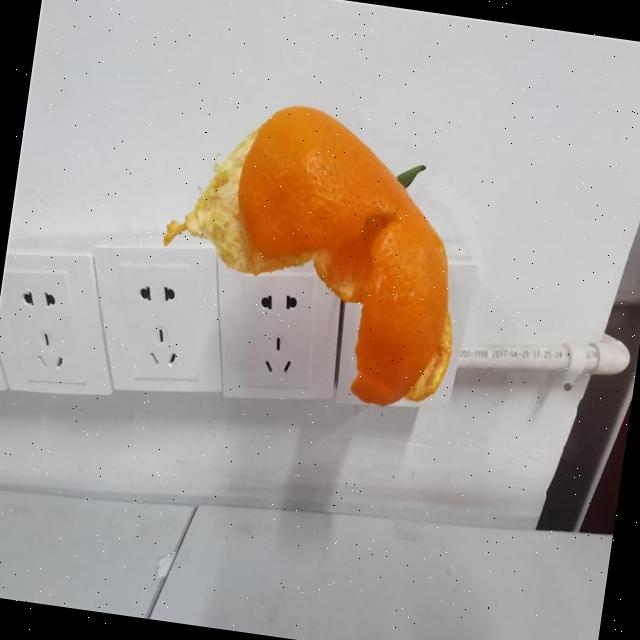orange-peel: (208, 96, 483, 415)
